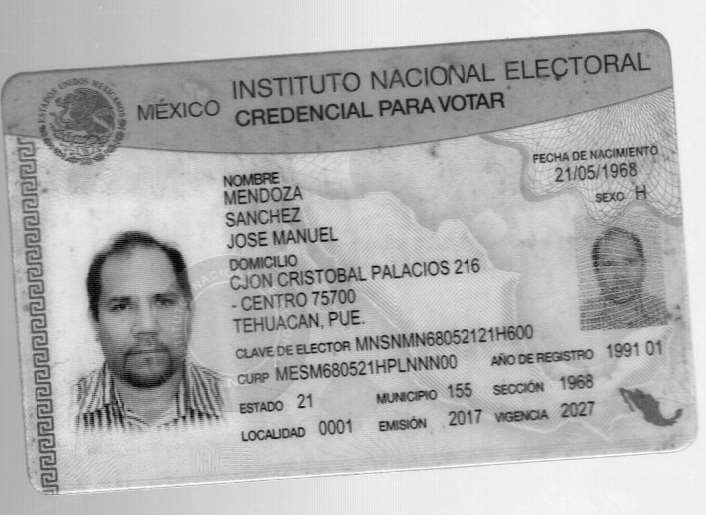ESCUDO: (38, 78, 127, 165)
MAPA: (618, 387, 682, 425)
PALABRA: (505, 52, 651, 80)
